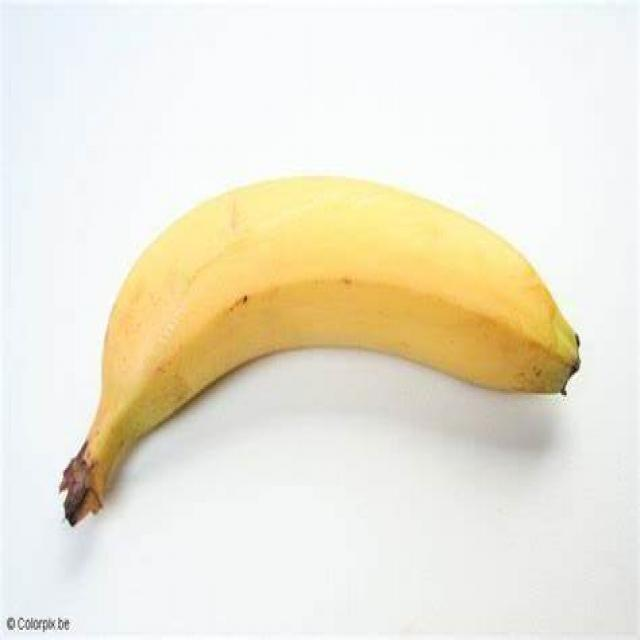Banana: (64, 174, 582, 531)
